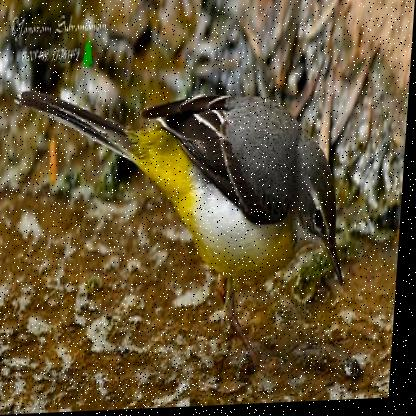Burung: (2, 77, 356, 337)
